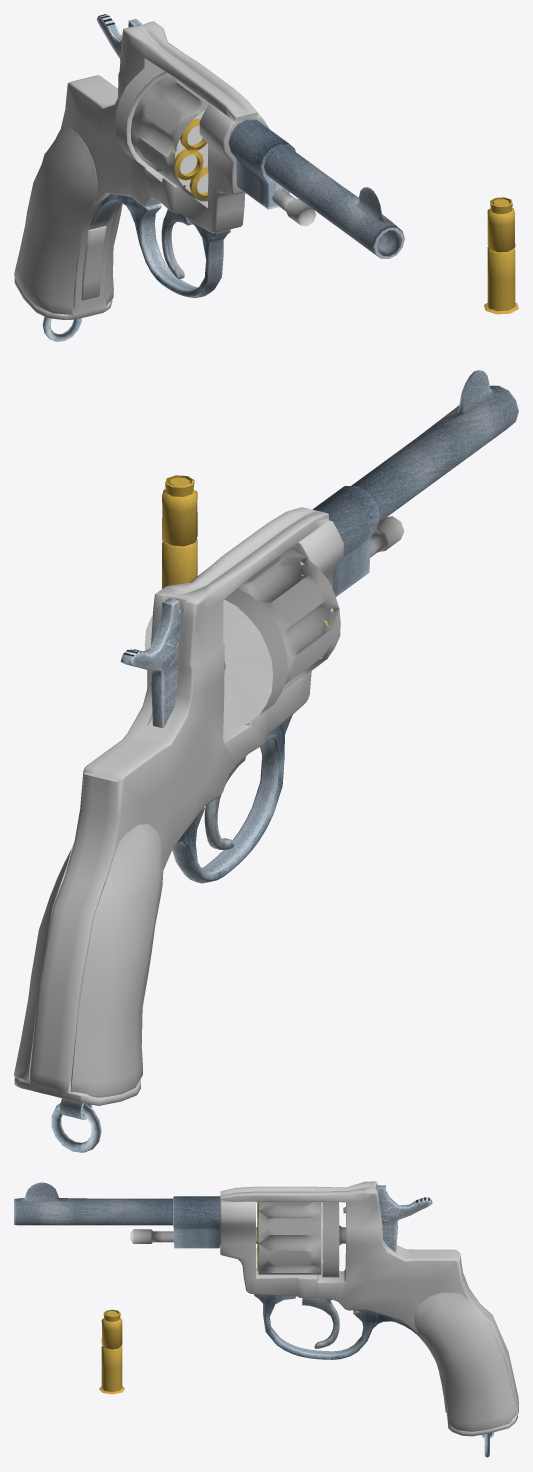
Rendered from Nagant_Revolver.obj.
3 views of the same model, one above another, from view 1: azimuth 30°, elevation 25°; view 2: azimuth 150°, elevation 25°; view 3: azimuth 270°, elevation 25° (orthographic). The views are drawn at different scales.
Visible parts, largest first — view 1: Main_Body, Wooden_Handle, Main_Pipe, Ammo_Drum, Trigger_Guard, cylinder, Ammo_Drum_Front, Trigger, Drum_Pipe, Percussor, Ring; view 2: Main_Body, Wooden_Handle, Ammo_Drum, Main_Pipe, Trigger_Guard, cylinder, Percussor, Ring, Drum_Pipe, Trigger; view 3: Main_Body, Wooden_Handle, Main_Pipe, Ammo_Drum, Trigger_Guard, cylinder, Percussor, Trigger, Drum_Pipe.
Part boxes in pixels (left/top/right/bottom): Main_Body: left=14, top=21, right=269, bottom=319; Wooden_Handle: left=14, top=126, right=122, bottom=314; Main_Pipe: left=228, top=119, right=404, bottom=258; Ammo_Drum: left=115, top=63, right=209, bottom=201; Trigger_Guard: left=88, top=194, right=230, bottom=297; cylinder: left=484, top=197, right=518, bottom=314; Ammo_Drum_Front: left=168, top=118, right=208, bottom=199; Trigger: left=161, top=209, right=192, bottom=279; Drum_Pipe: left=272, top=189, right=316, bottom=226; Percussor: left=96, top=14, right=141, bottom=60; Ring: left=42, top=316, right=81, bottom=341; Main_Body: left=14, top=507, right=343, bottom=1105; Wooden_Handle: left=14, top=824, right=163, bottom=1097; Ammo_Drum: left=144, top=548, right=340, bottom=729; Main_Pipe: left=312, top=370, right=518, bottom=596; Trigger_Guard: left=172, top=714, right=292, bottom=883; cylinder: left=162, top=475, right=197, bottom=588; Percussor: left=120, top=598, right=180, bottom=728; Ring: left=51, top=1103, right=101, bottom=1152; Drum_Pipe: left=370, top=516, right=404, bottom=557; Trigger: left=204, top=757, right=245, bottom=849; Main_Body: left=220, top=1181, right=518, bottom=1436; Wooden_Handle: left=414, top=1292, right=516, bottom=1431; Main_Pipe: left=14, top=1182, right=220, bottom=1248; Ammo_Drum: left=256, top=1202, right=345, bottom=1277; Trigger_Guard: left=253, top=1294, right=428, bottom=1359; cylinder: left=99, top=1309, right=124, bottom=1394; Percussor: left=343, top=1185, right=432, bottom=1252; Trigger: left=302, top=1297, right=339, bottom=1348; Drum_Pipe: left=130, top=1229, right=173, bottom=1243.
Bounding box in the file's own units: 4.06 × 5.98 × 10.02.
